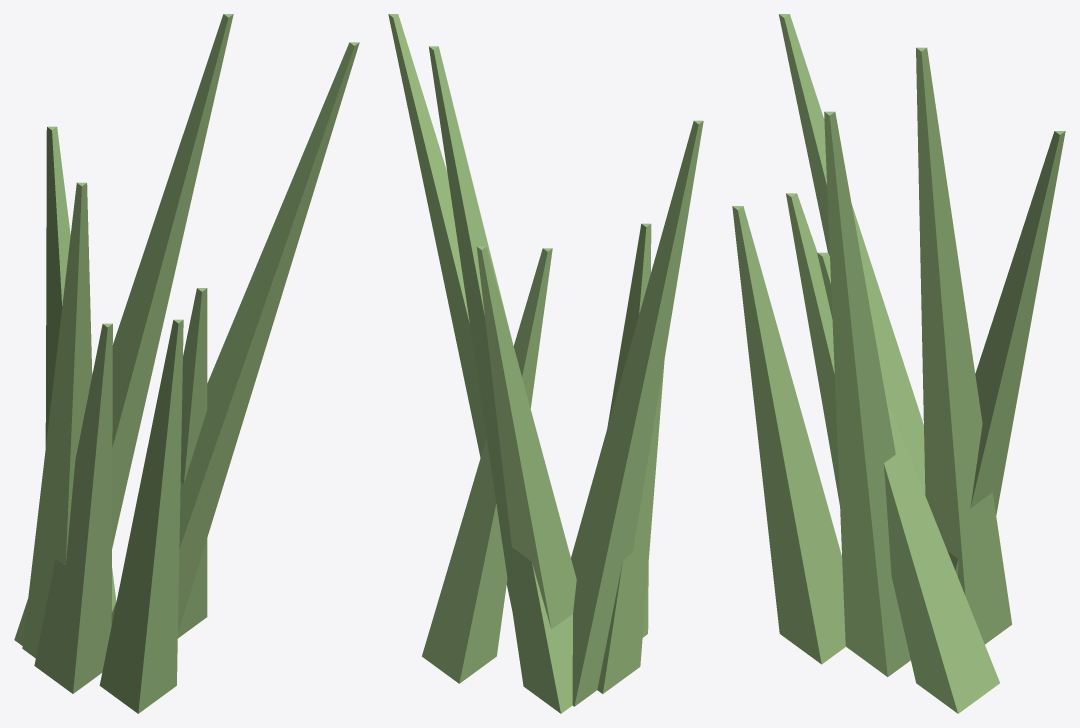
File: grass_tuft_1.glb
3 renders of one model, left to right at view 1: azimuth 30°, elevation 25°; view 2: azimuth 150°, elevation 25°; view 3: azimuth 270°, elevation 25°, orthographic. The views are drawn at different scales.
Parts seen in each view (by area): view 1: grass_tuft_1; view 2: grass_tuft_1; view 3: grass_tuft_1.
Boxes of the visible parts, bbox=[...] form: grass_tuft_1: bbox=[14, 14, 359, 713]; grass_tuft_1: bbox=[388, 14, 703, 713]; grass_tuft_1: bbox=[732, 14, 1065, 713].
Size of the model in its own units: 0.3509 by 0.6825 by 0.3089.
